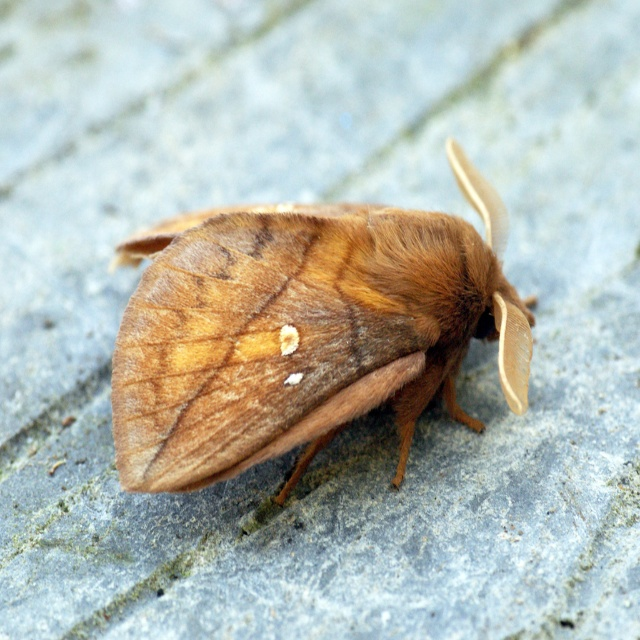Moths and butterflies: (105, 135, 542, 503)
